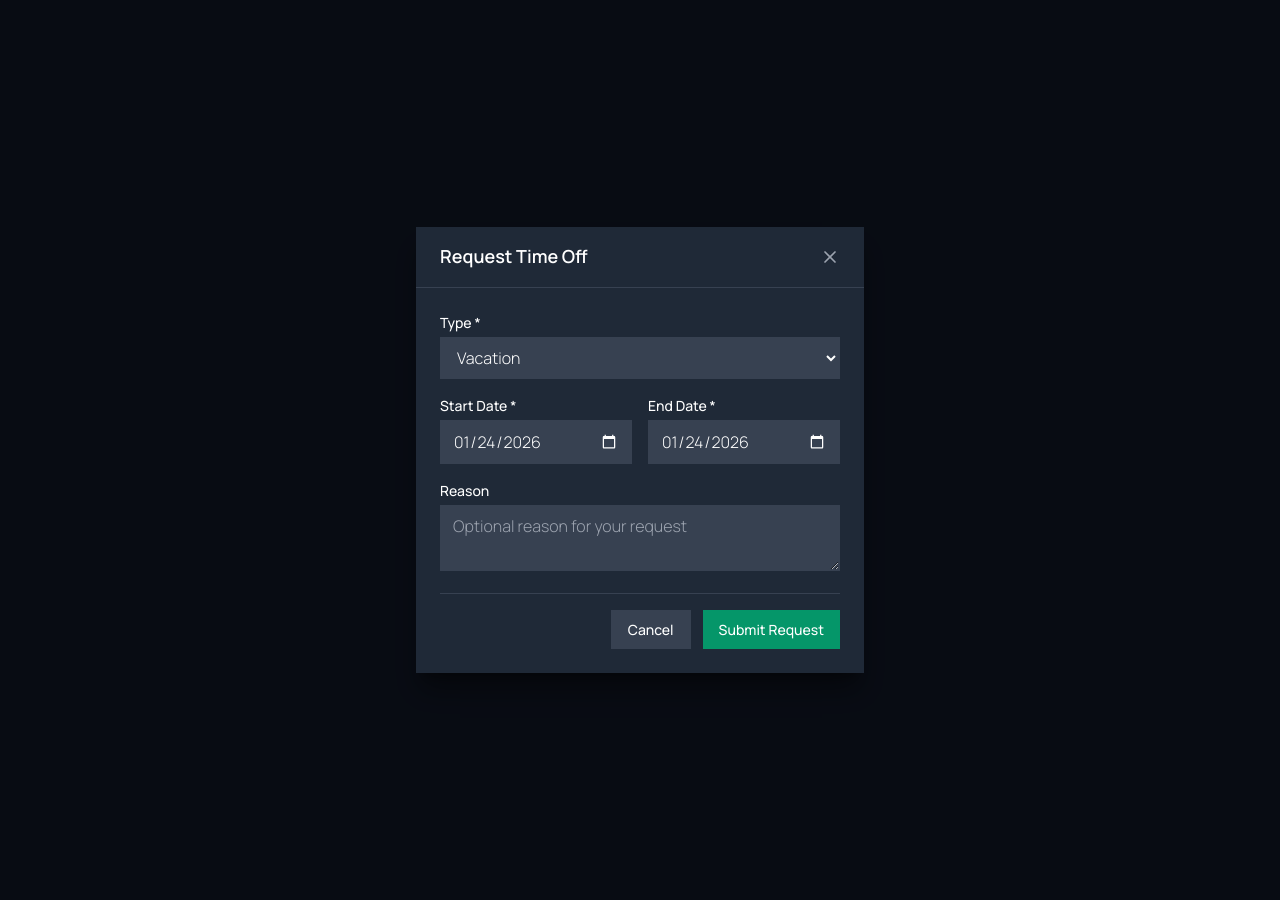
Test case: RequestTimeOffModal › form submission › shows error message on failure
Type "2024-01-15" into the date field labelled "Start Date *" at point(536, 442), box [440,420,632,464]
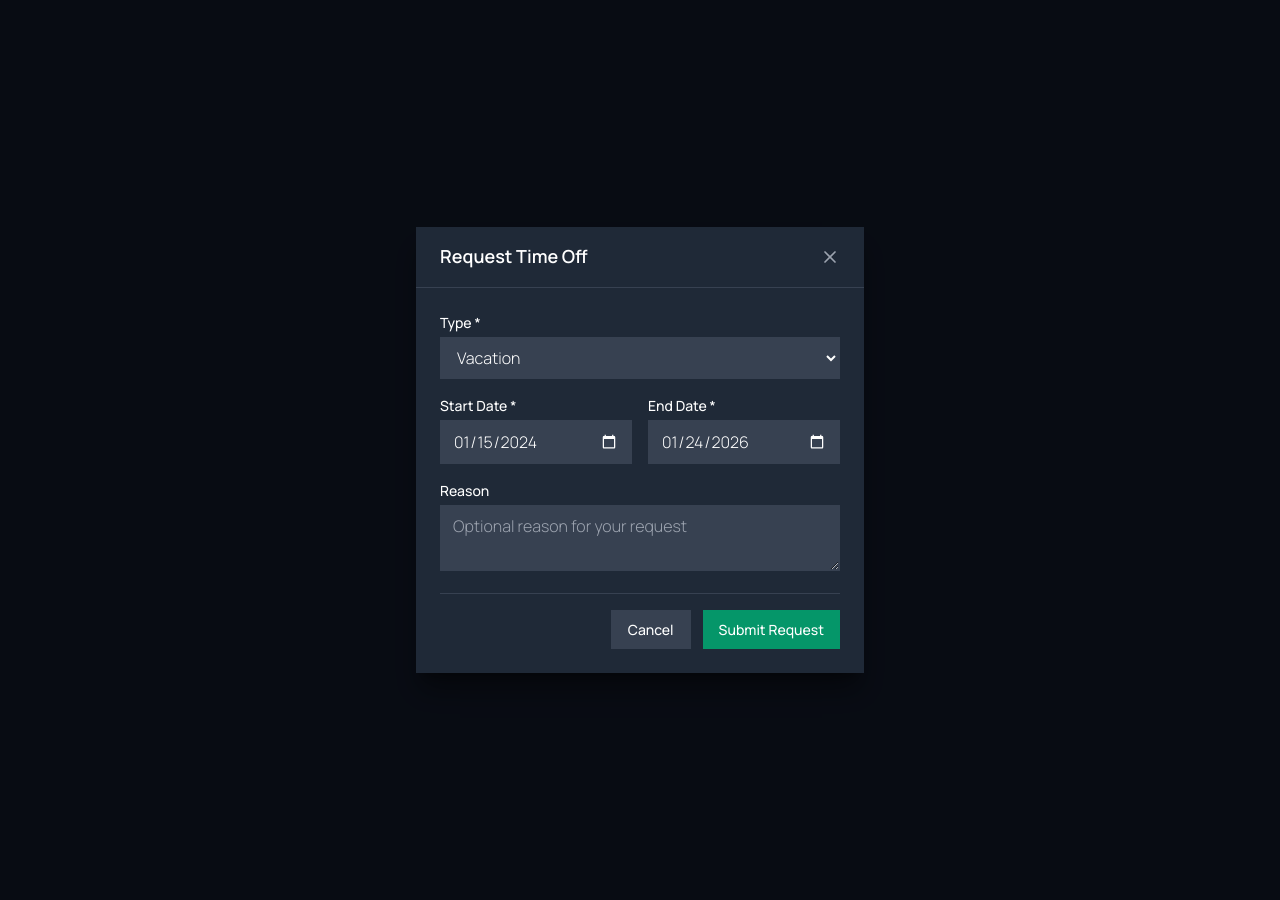
Type "2024-01-20" into the date field labelled "End Date *" at point(744, 442), box [648,420,840,464]
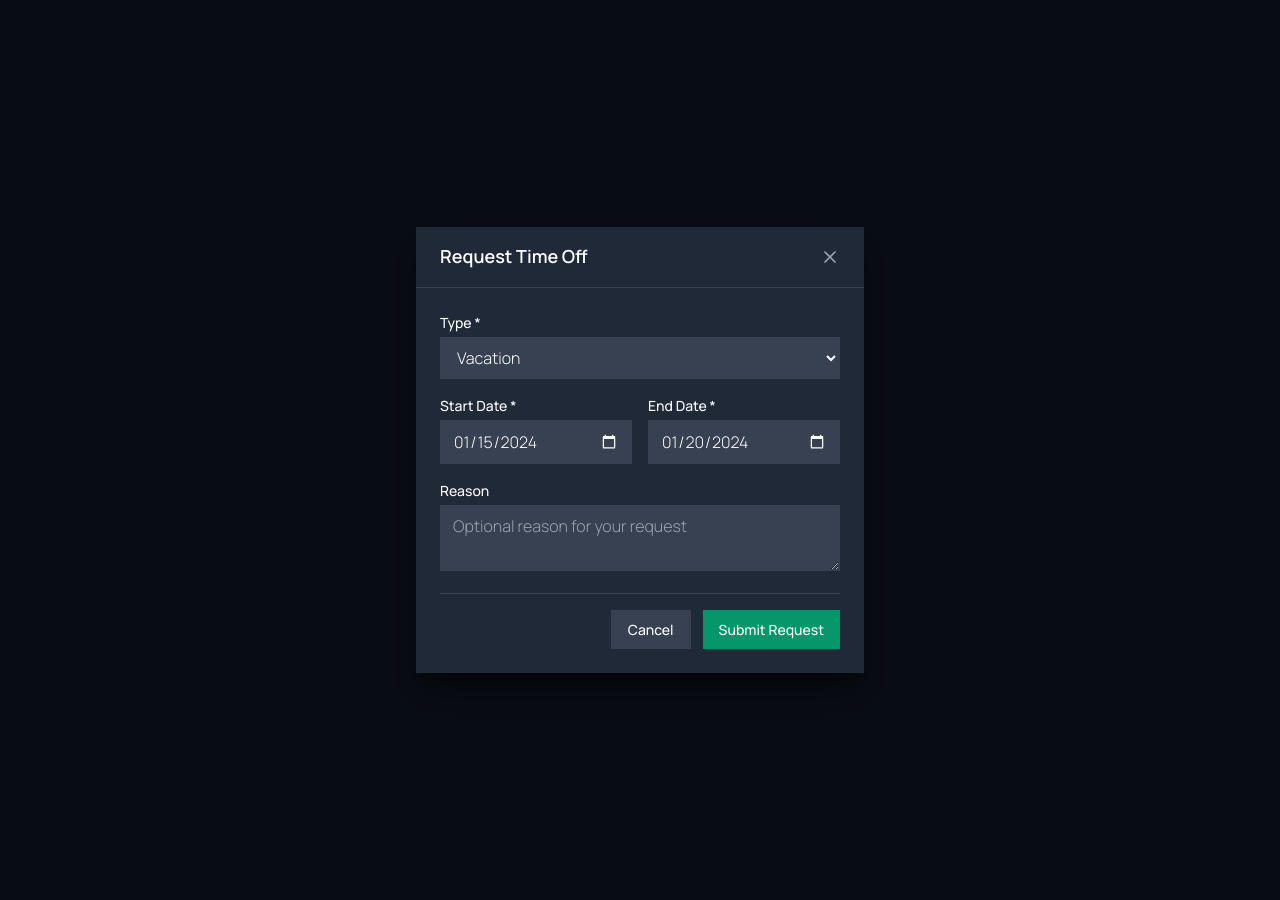
Submit the form, box [440,312,840,649]
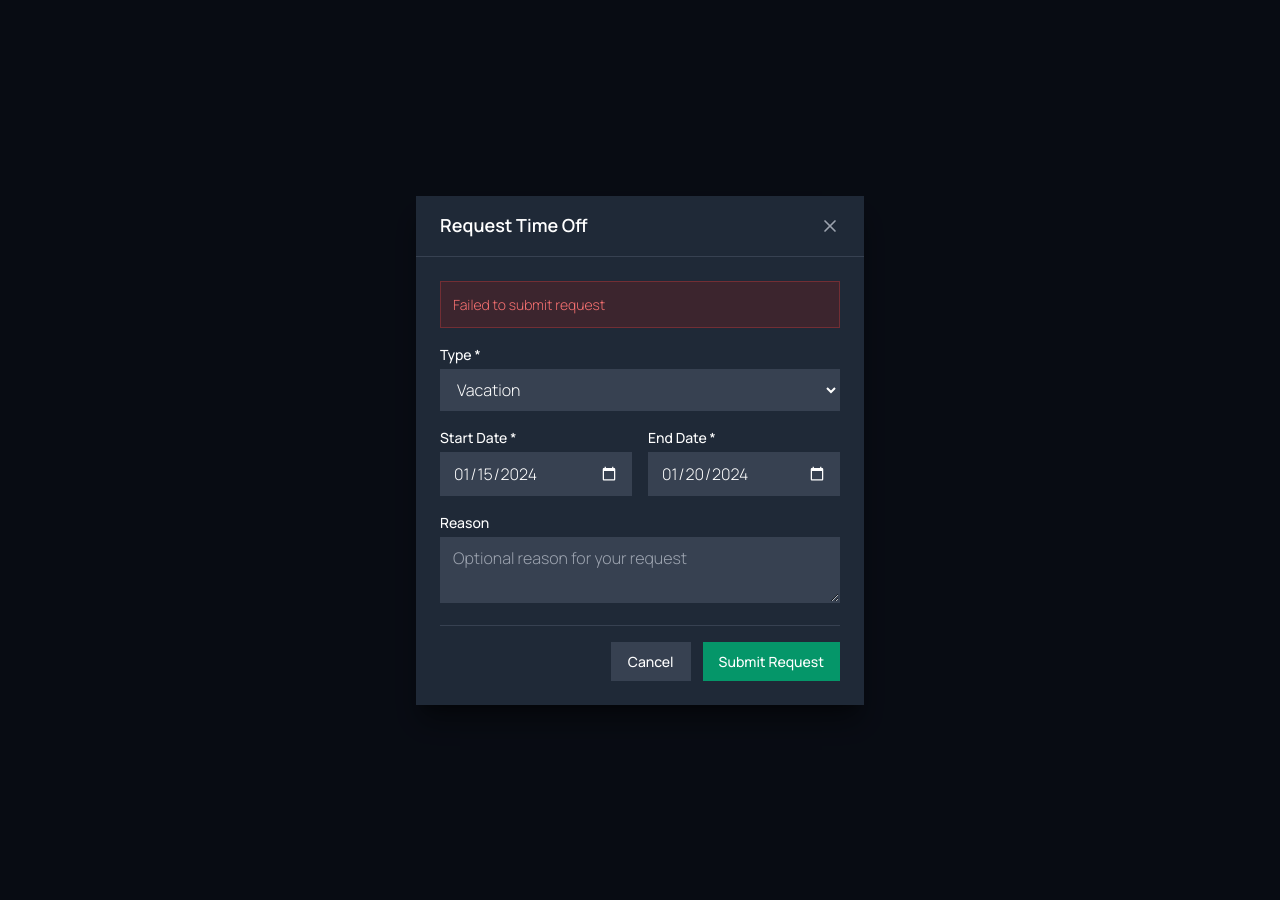
Expected: the text "Failed to submit request" is shown, [440,280,840,328]
